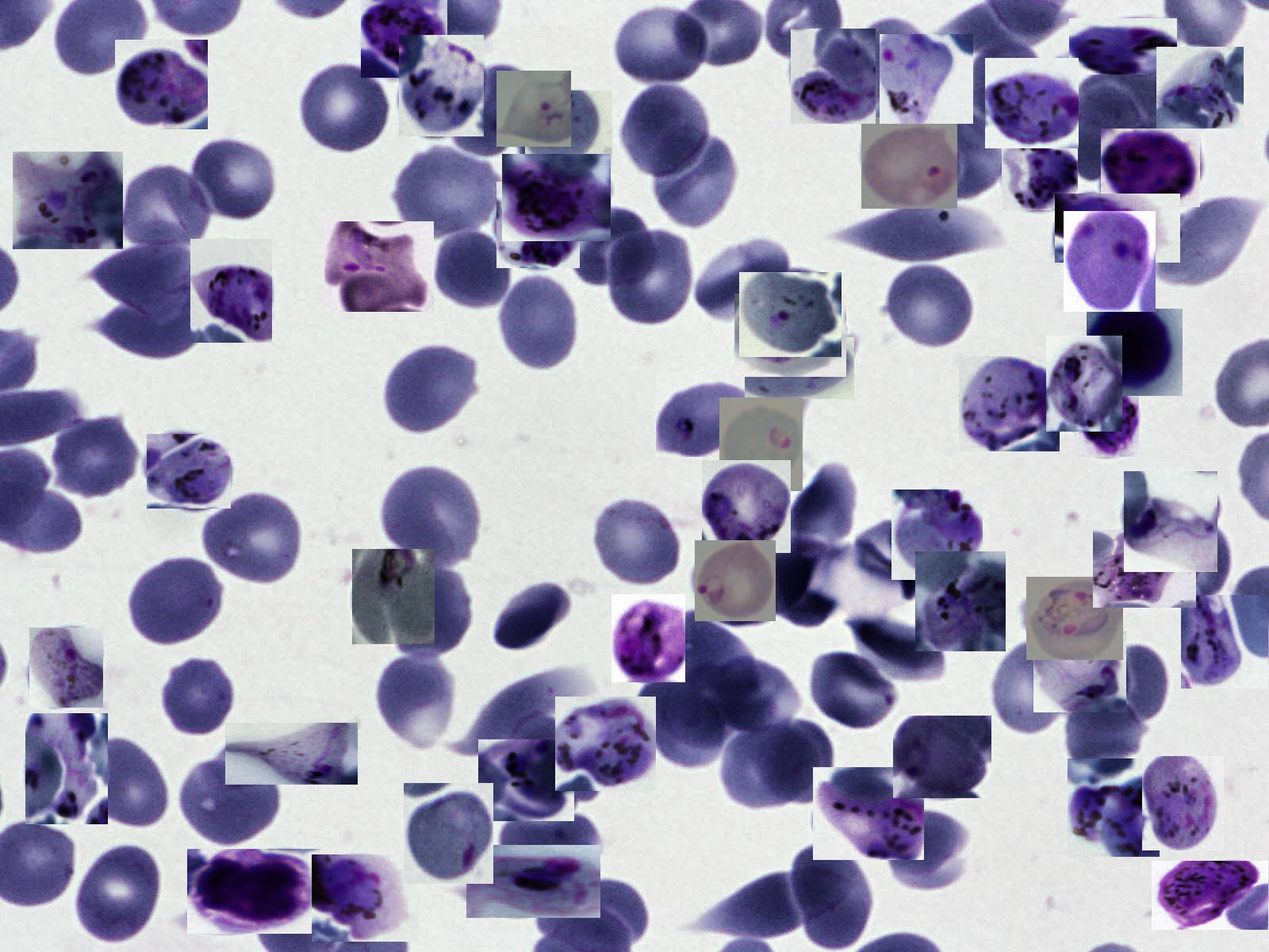Infected: (187, 849, 323, 934), (13, 152, 123, 249), (813, 767, 924, 860), (324, 221, 434, 312), (466, 845, 600, 918), (959, 356, 1060, 451), (555, 697, 656, 791), (502, 154, 611, 241), (312, 854, 419, 942), (1124, 471, 1217, 572), (734, 294, 846, 377), (1064, 211, 1156, 312), (25, 714, 108, 824), (1068, 758, 1160, 857), (915, 551, 1006, 651), (404, 783, 493, 884), (861, 117, 957, 209), (739, 272, 842, 357), (1055, 194, 1180, 263), (399, 35, 484, 136), (190, 239, 272, 343), (985, 58, 1079, 148), (891, 489, 983, 580), (880, 34, 973, 124), (1087, 309, 1183, 396), (115, 40, 208, 129), (702, 460, 791, 553), (225, 723, 358, 785), (1181, 595, 1268, 689), (791, 29, 876, 124), (1026, 577, 1123, 660), (893, 716, 991, 798), (1093, 530, 1196, 608), (1152, 861, 1268, 930), (719, 397, 803, 491), (352, 549, 435, 644), (478, 740, 574, 821), (1101, 129, 1200, 207), (1142, 756, 1224, 850), (656, 371, 745, 457), (1033, 631, 1126, 712), (1046, 336, 1122, 432), (496, 182, 580, 268), (738, 337, 854, 399), (1156, 48, 1244, 129), (361, 0, 447, 78), (525, 90, 612, 166), (611, 594, 685, 682), (696, 540, 776, 621), (147, 434, 231, 509), (1069, 18, 1177, 75), (29, 628, 103, 708), (496, 71, 571, 147), (1002, 141, 1078, 210), (1075, 381, 1139, 457)
Uninfected: (462, 669, 589, 754), (638, 608, 758, 697), (1155, 194, 1263, 288), (98, 275, 213, 363), (389, 150, 498, 241), (385, 468, 481, 571), (707, 869, 850, 938), (382, 342, 485, 436), (620, 82, 713, 182), (973, 38, 1055, 151), (75, 843, 166, 944), (880, 259, 978, 351), (126, 559, 225, 650), (204, 492, 301, 584), (834, 205, 999, 259), (687, 236, 791, 321), (503, 807, 600, 895), (916, 104, 1004, 201), (608, 225, 690, 329), (496, 271, 580, 372), (654, 127, 738, 228), (123, 161, 213, 255), (389, 560, 474, 658), (186, 135, 279, 224), (509, 712, 602, 801), (181, 760, 283, 841), (794, 836, 869, 946), (1075, 67, 1215, 125), (48, 415, 142, 501), (450, 63, 530, 164), (723, 727, 815, 811), (301, 64, 388, 152), (887, 806, 972, 896), (615, 9, 709, 90), (640, 671, 720, 766), (374, 652, 454, 747), (1068, 75, 1138, 182), (593, 499, 680, 585), (87, 737, 168, 828), (858, 17, 937, 109), (1146, 517, 1229, 604), (991, 640, 1064, 736), (807, 651, 894, 731), (786, 460, 863, 550), (709, 657, 800, 733), (764, 537, 843, 624), (488, 578, 577, 654), (573, 209, 655, 287), (1096, 641, 1169, 728), (88, 250, 196, 308), (158, 657, 235, 738), (1126, 113, 1205, 189), (428, 229, 506, 305), (760, 724, 832, 804), (850, 622, 943, 681), (1064, 700, 1140, 771)
